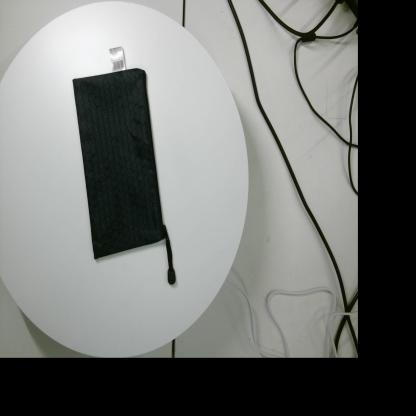Stationery: (72, 46, 176, 285)
